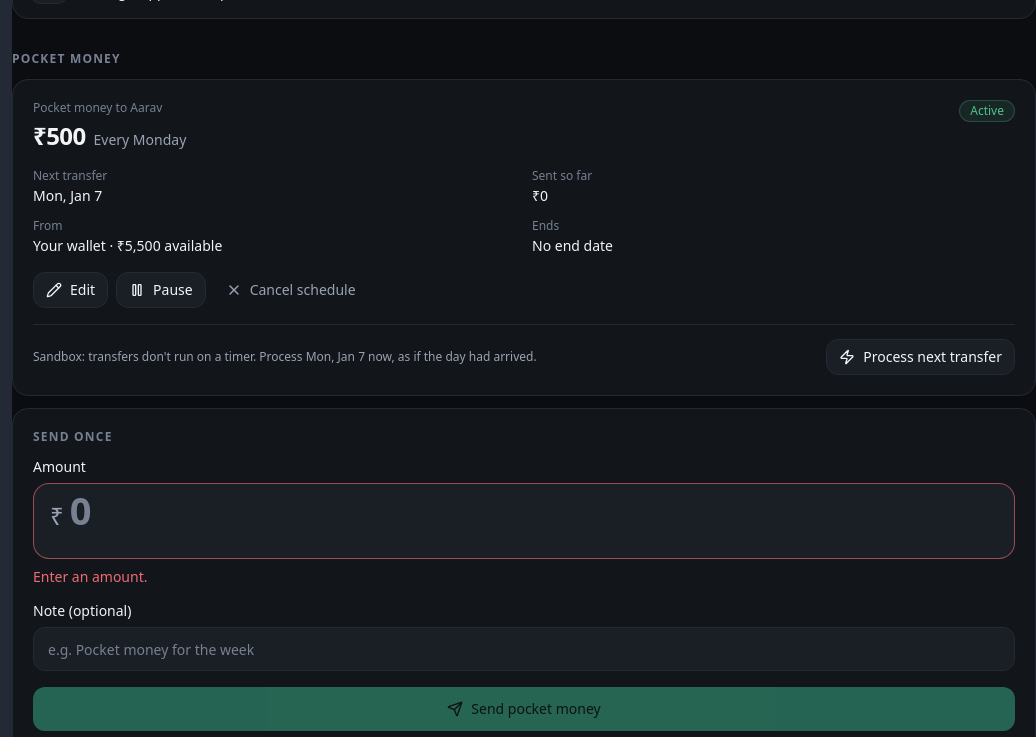
Test: parent pocket money — manage › processes the next transfer through the ledger and records it in history
(page scrolled)
Expected: the text "Mon, Jan 7" is shown, [33,186,102,205]
Click the button "Process next transfer" at (921, 357), box [826,339,1015,375]
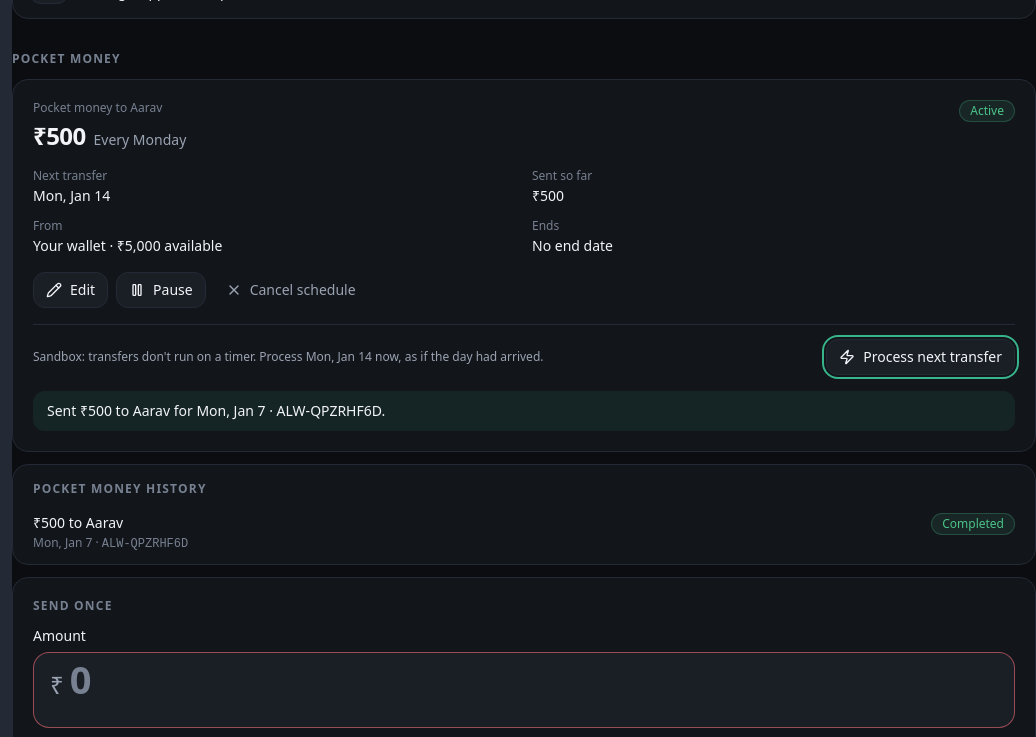
Now the text "Completed" is shown, box [931,513,1015,535]
Now the text "ALW-" is shown, box [102,537,188,551]
Now the text "₹500 to Aarav" is shown, box [33,513,123,532]
